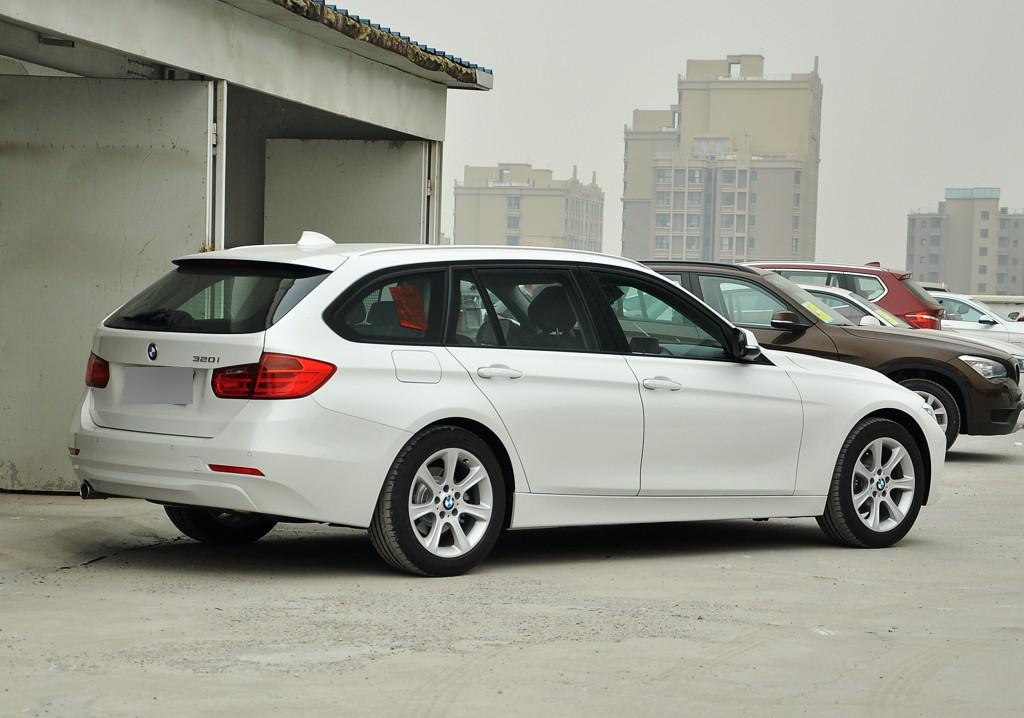Wagon: (65, 229, 949, 579)
